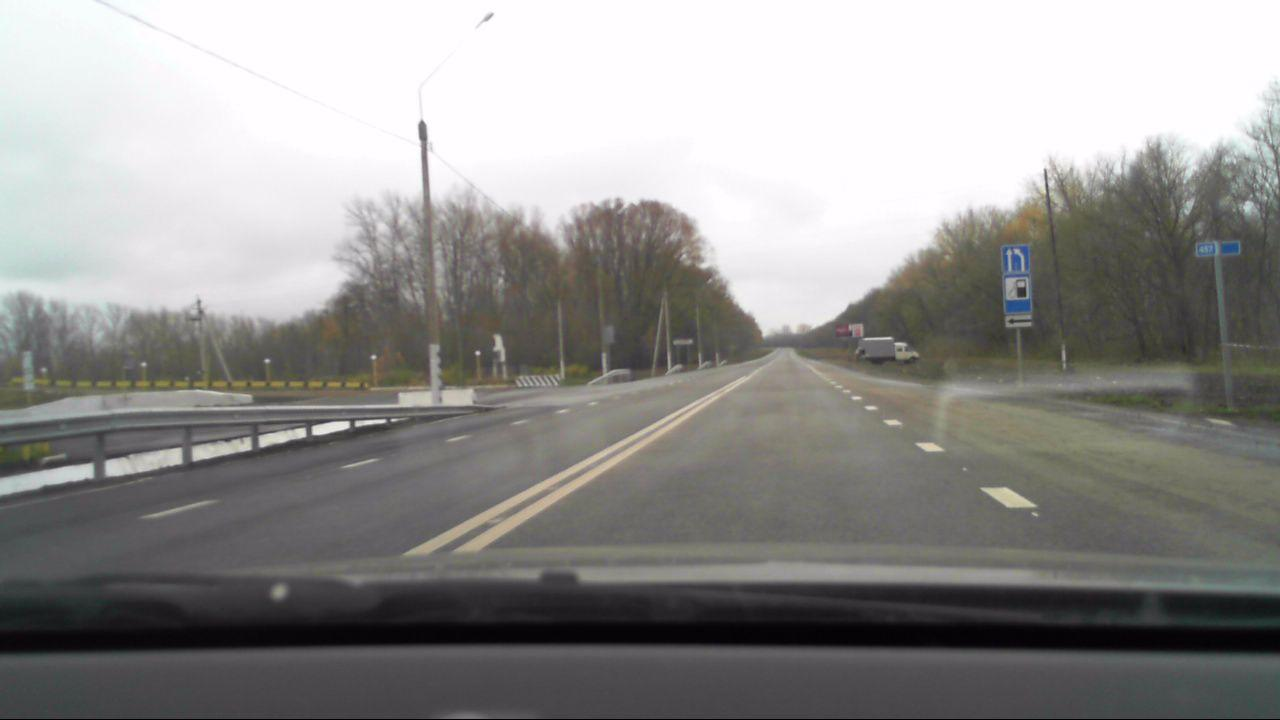5_15_5: (1000, 244, 1029, 273)
7_3: (1001, 274, 1034, 315)
8_3_2: (1003, 313, 1033, 329)
